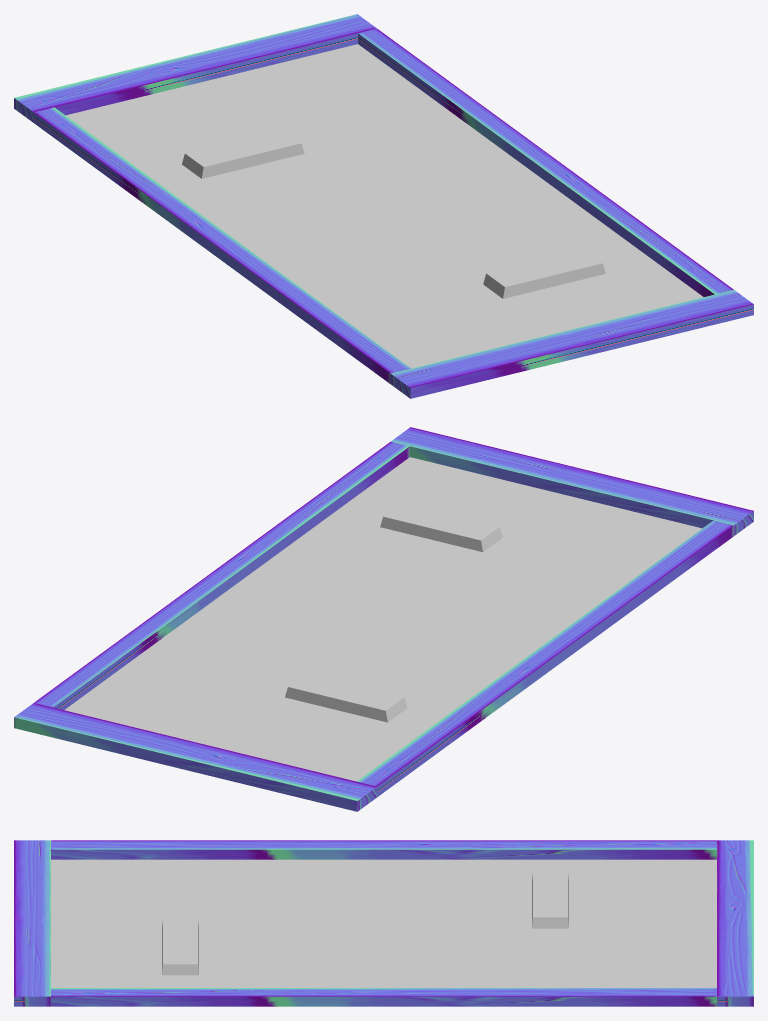
File: SM_HalfWall_A.fbx
3 views of the same model, one above another, from view 1: azimuth 30°, elevation 25°; view 2: azimuth 150°, elevation 25°; view 3: azimuth 270°, elevation 25° (orthographic). The views are drawn at different scales.
Visible parts, largest first — view 1: SM_HalfWall_A; view 2: SM_HalfWall_A; view 3: SM_HalfWall_A.
Boxes of the visible parts, left/top/right/bottom form: SM_HalfWall_A: left=14, top=14, right=753, bottom=398; SM_HalfWall_A: left=14, top=427, right=753, bottom=811; SM_HalfWall_A: left=14, top=840, right=753, bottom=1006.
Bounding box in the file's own units: 100 × 3 × 200.
